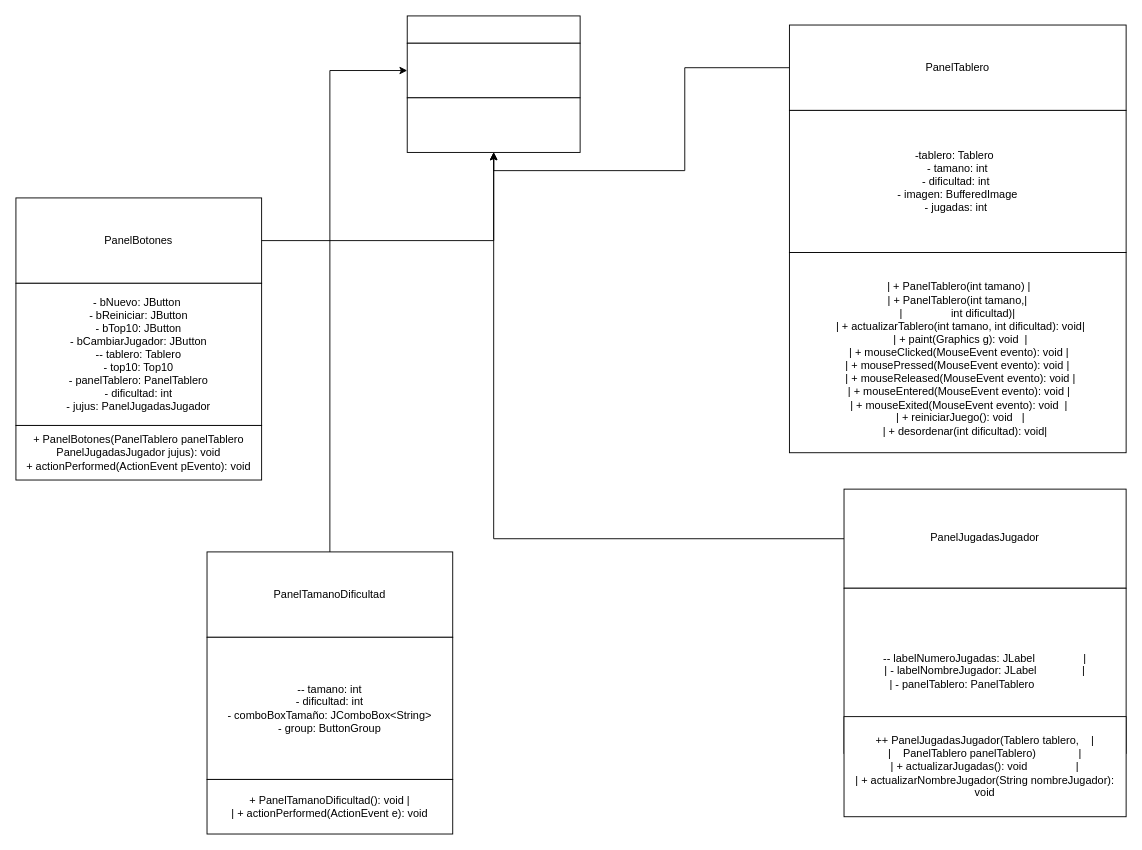
Image size: 1142x850. Some labels were removed from this diagram. The centre of each missing label's shape, as x and y in pixels:
"+ Interfaz() + main(String[] args): void" goes at point (493, 124).
"- tablero: Tablero-" goes at point (493, 70).
"Interfaz" goes at point (493, 29).
